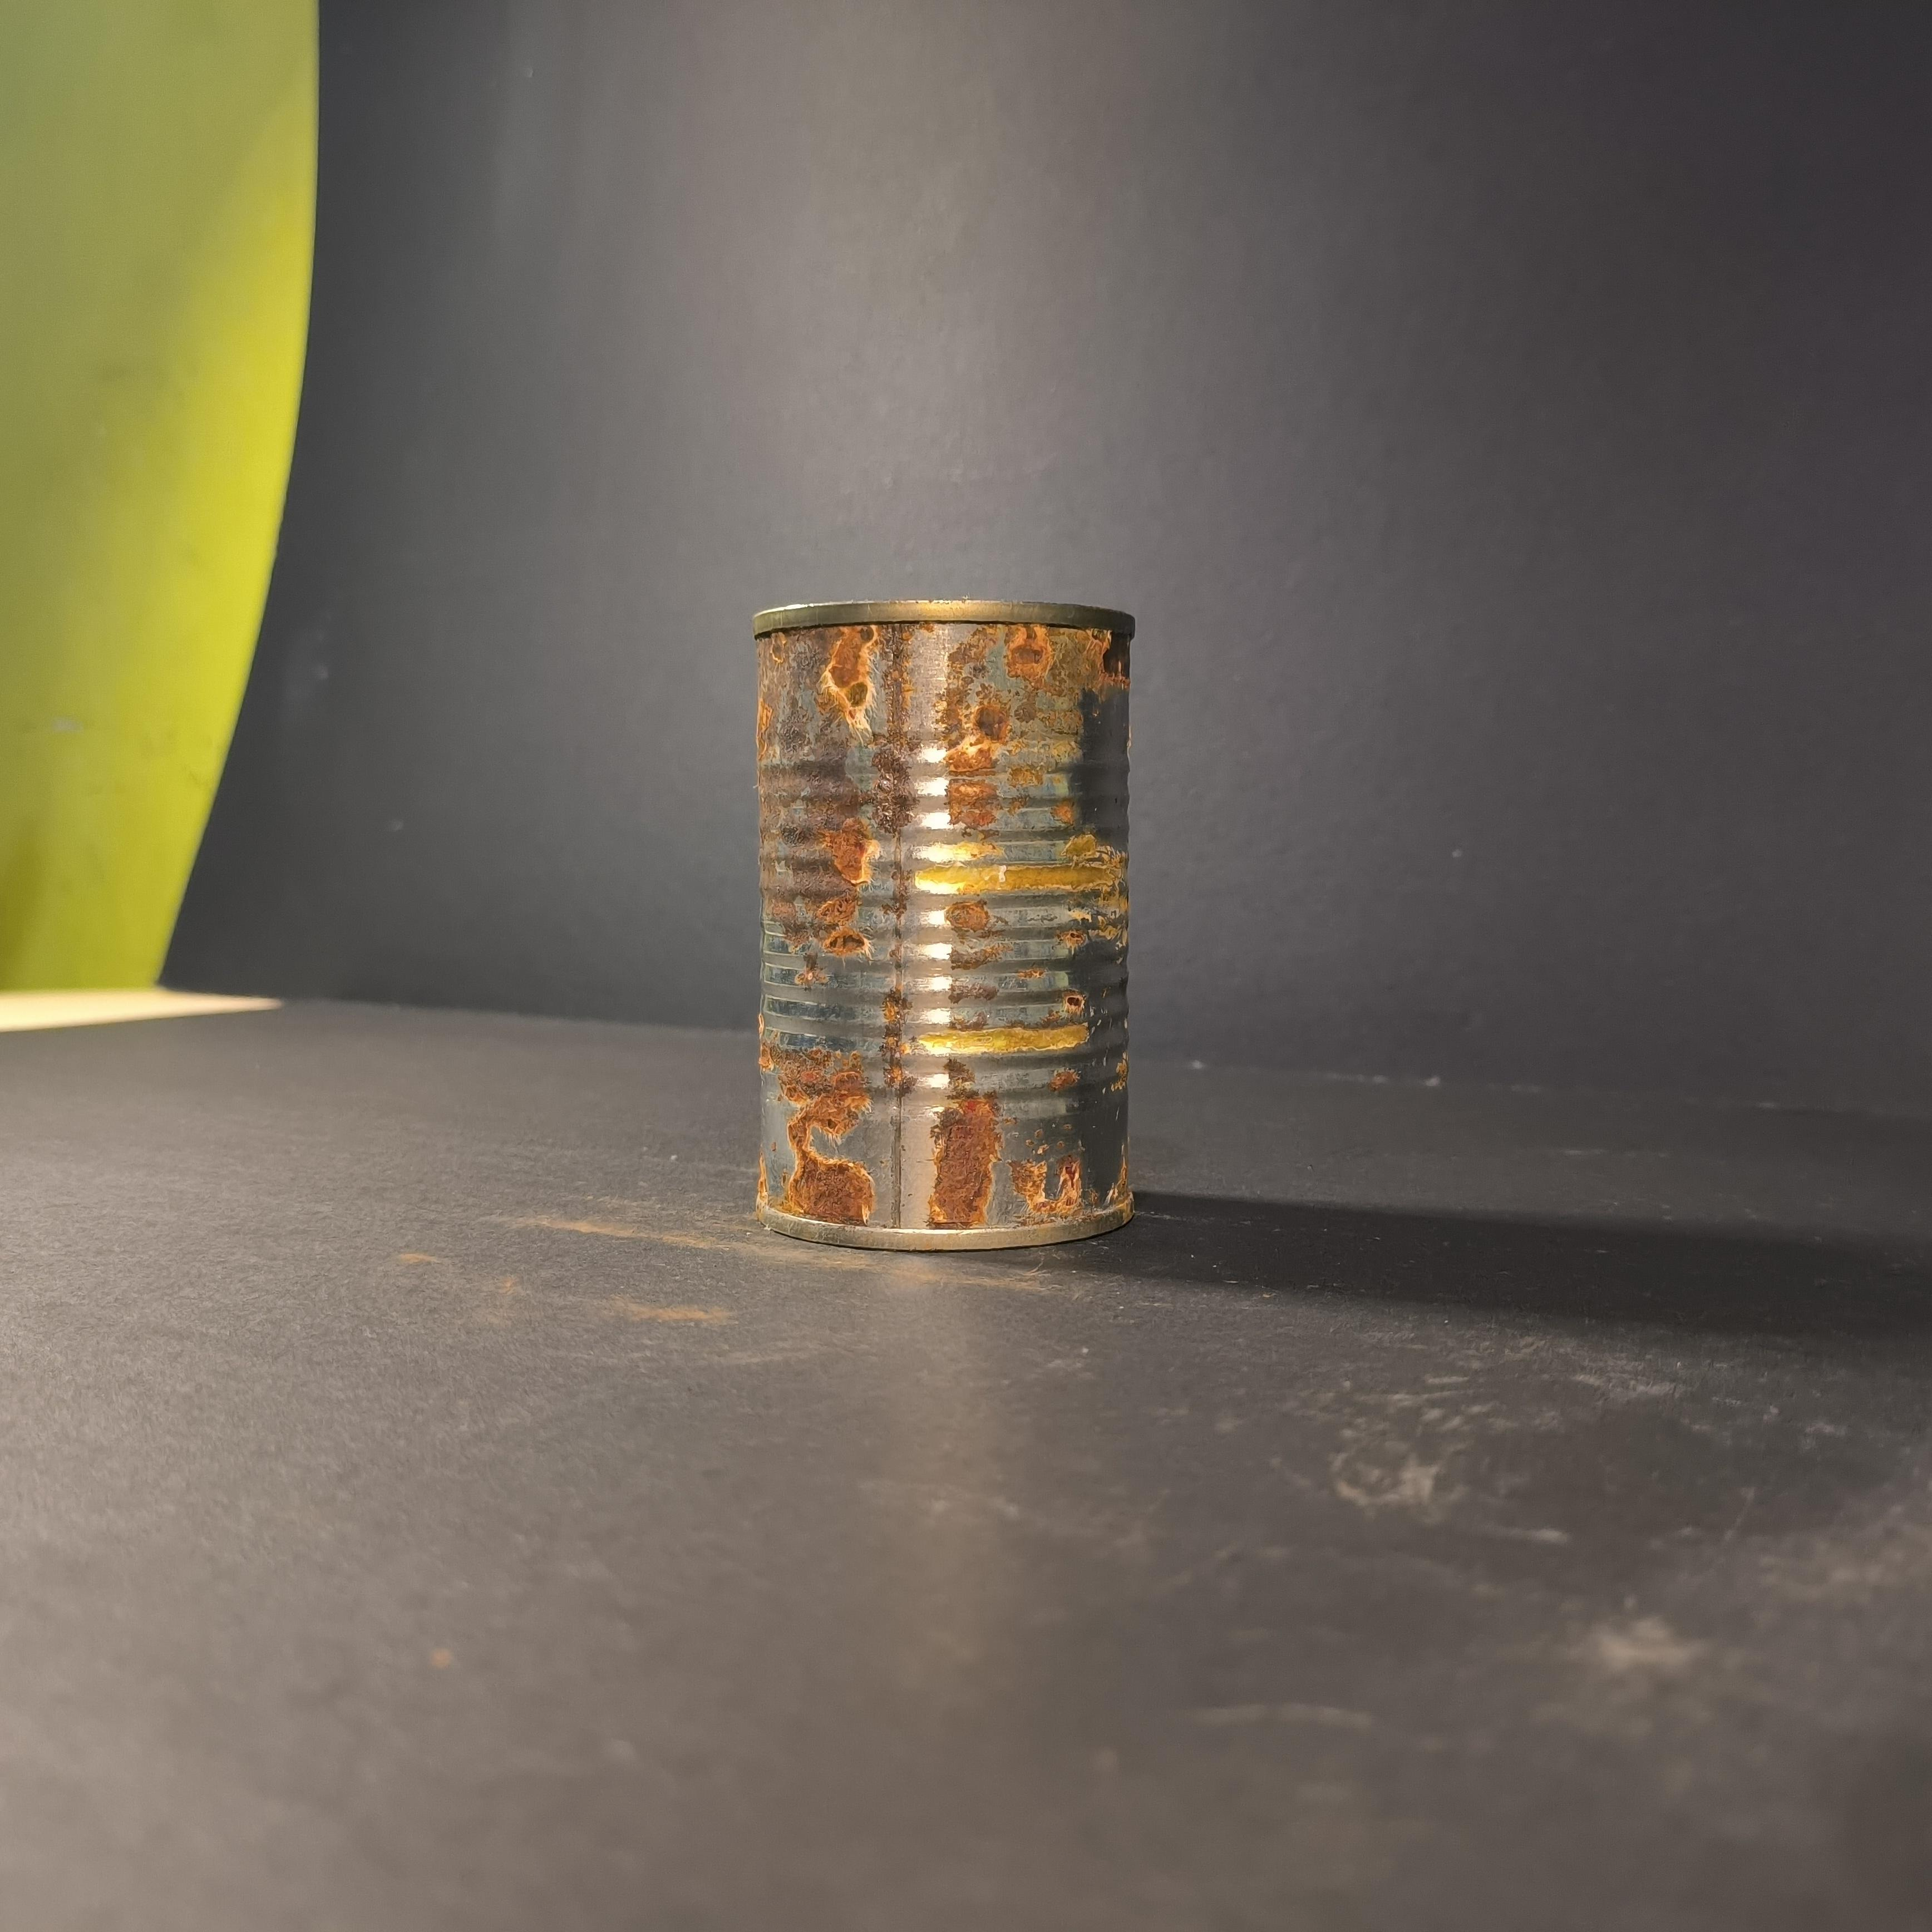Rusted: (718, 568, 1161, 1277)
